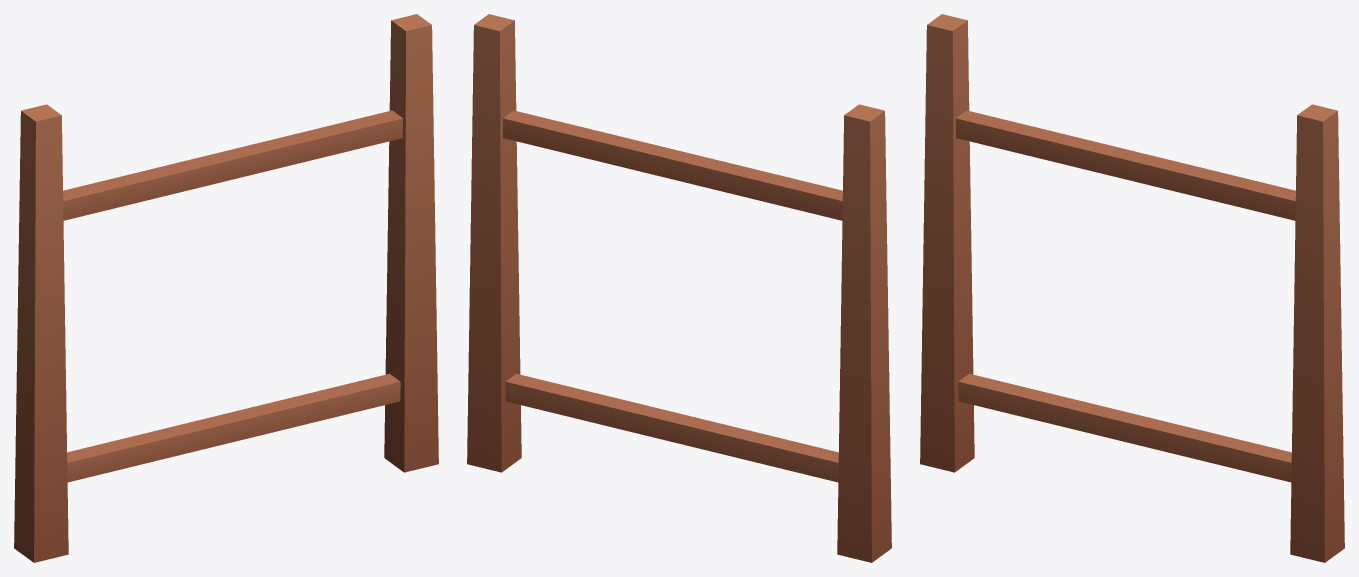
File: fence.glb
The picture shows the model from 3 angles, left to right: view 1: azimuth 30°, elevation 25°; view 2: azimuth 150°, elevation 25°; view 3: azimuth 330°, elevation 25°; orthographic projection.
Parts seen in each view (by area): view 1: fence; view 2: fence; view 3: fence.
Part boxes in pixels (bbox=[...]): fence: bbox=[14, 14, 438, 562]; fence: bbox=[467, 14, 891, 562]; fence: bbox=[920, 14, 1344, 562].
Bounding box in the file's own units: 0.5 × 0.5175 × 0.0428.
